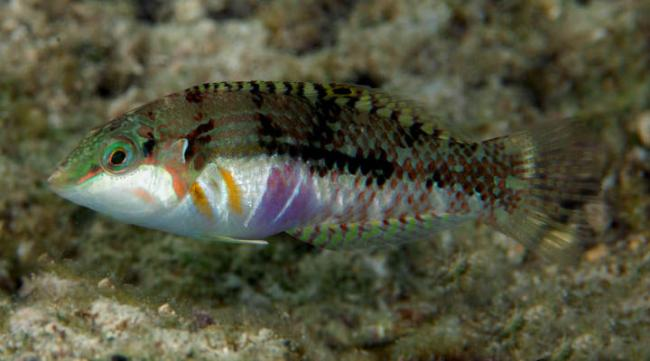fish: (46, 80, 604, 278)
